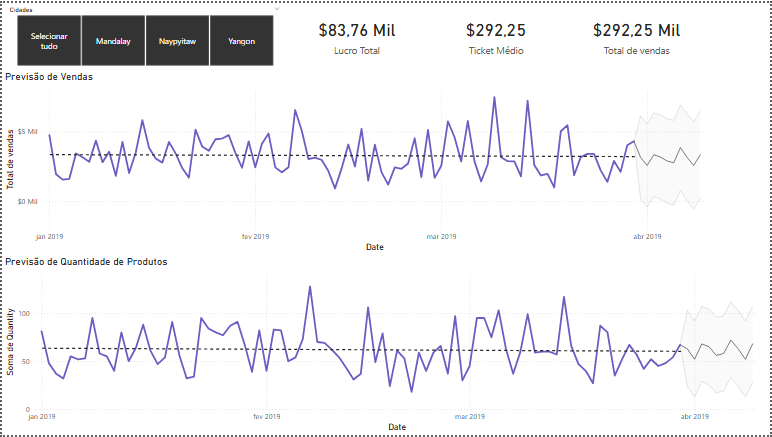

The dashboard page shown, as its layout file describes it:
{"tool":"powerbi","page":{"name":"Análise Preditiva","canvas":[1280,720],"ordinal":1},"visuals":[{"type":"card","fields":{"Values":["dataset-IAN-Store.Total de vendas"]},"box":[938.6,15.7,238.6,78.6],"z":0},{"type":"slicer","fields":{"Values":["dataset-IAN-Store.City"]},"box":[0,0,475.7,111.4],"z":1000},{"type":"card","fields":{"Values":["dataset-IAN-Store.Ticket Médio"]},"box":[708.6,15.7,230,78.6],"z":2000},{"type":"card","fields":{"Values":["dataset-IAN-Store.Lucro Total"]},"box":[475.7,15.7,232.9,78.6],"z":3000},{"type":"lineChart","title":"Previsão de Quantidade de Produtos","fields":{"Y":["Sum(dataset-IAN-Store.Quantity)"],"Category":["dataset-IAN-Store.Date"]},"box":[0,420,1280,300],"z":4000},{"type":"lineChart","title":"Previsão de Vendas","fields":{"Category":["dataset-IAN-Store.Date"],"Y":["dataset-IAN-Store.Total de vendas"]},"box":[0,111.8,1280,307.6],"z":5000}]}

Visuals, with their boxes in screenshot pixels (x1, y1, x2, y2), scaled from the page's 1280x720 canvas onto the 772x437 screenshot:
card - dataset-IAN-Store.Total de vendas: [x1=566, y1=10, x2=710, y2=57]
slicer - dataset-IAN-Store.City: [x1=0, y1=0, x2=287, y2=68]
card - dataset-IAN-Store.Ticket Médio: [x1=427, y1=10, x2=566, y2=57]
card - dataset-IAN-Store.Lucro Total: [x1=287, y1=10, x2=427, y2=57]
"Previsão de Quantidade de Produtos" lineChart: [x1=0, y1=255, x2=771, y2=436]
"Previsão de Vendas" lineChart: [x1=0, y1=68, x2=771, y2=255]
